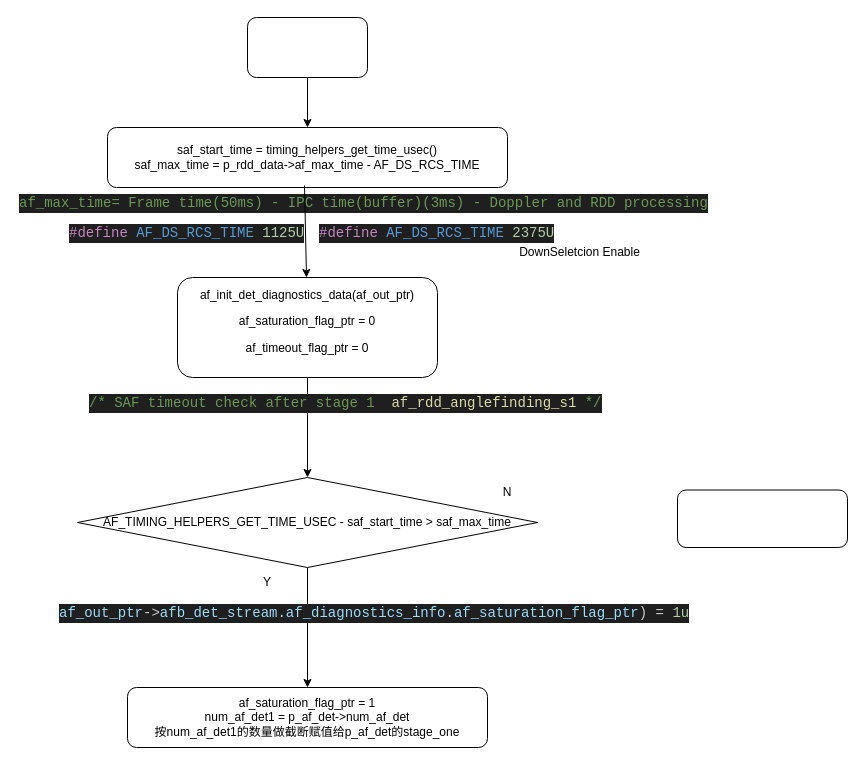
The diagram is 865 pixels wide and 765 high, and some of its shapes have lost their labels. The centre of each missing label's shape, as x and y in pixels:
af_rdd_anglefinding: pixel 307 47
af_rdd_anglefinding_s2: pixel 762 518
